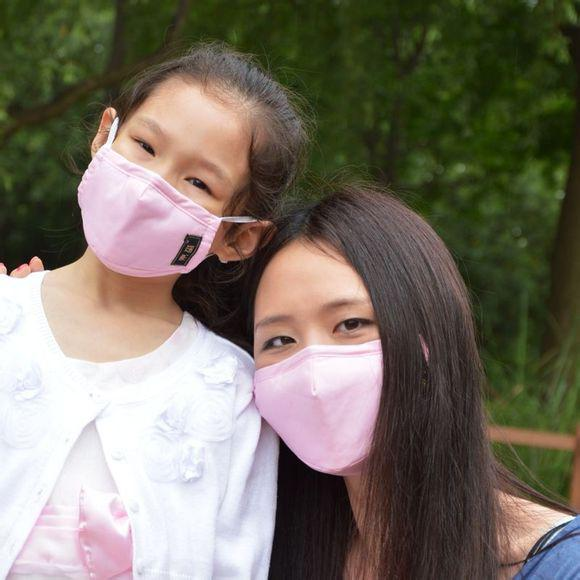OK: (93, 97, 272, 276), (257, 294, 414, 468)
